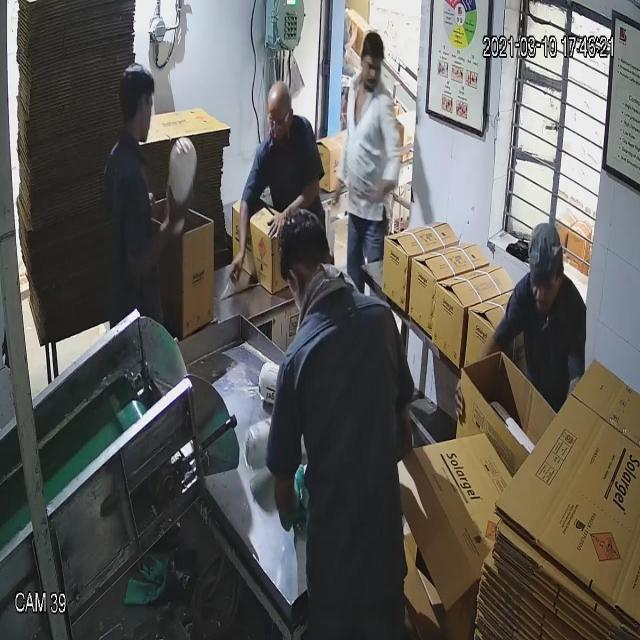No_Gloves: (29, 50, 381, 239)
